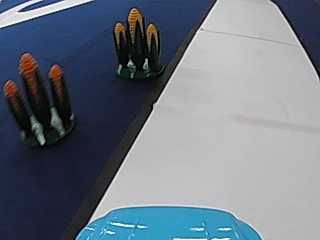corn: (6, 58, 77, 145), (110, 4, 164, 78)
